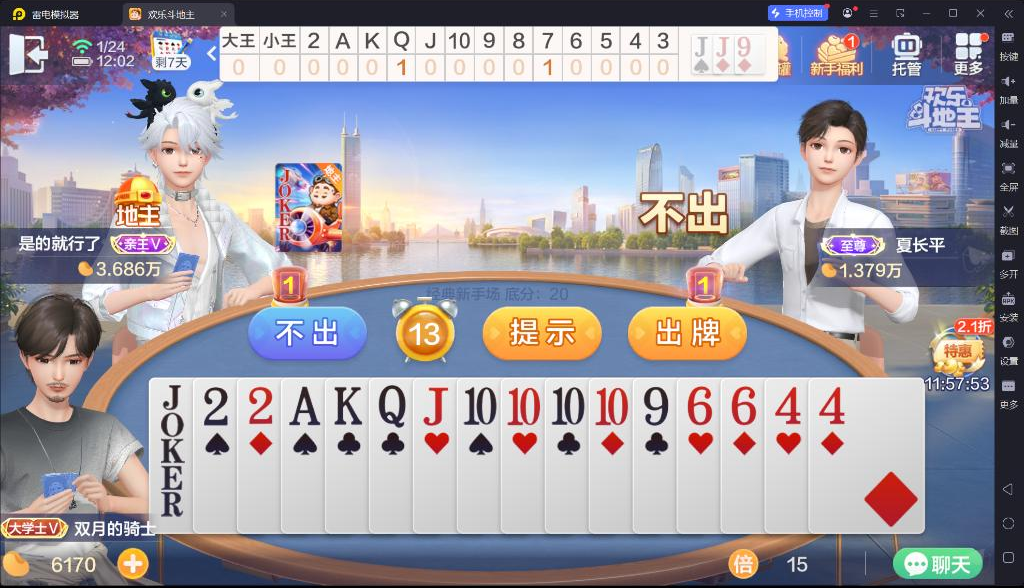A: (286, 384, 322, 427)
J: (419, 383, 451, 427), (715, 35, 731, 58), (694, 35, 709, 58)
JOKER: (276, 165, 292, 219)
K: (330, 383, 364, 426)
Q: (374, 383, 408, 429)
four: (771, 384, 803, 427), (817, 384, 847, 427)
joker: (158, 381, 188, 469)
nine: (639, 384, 670, 427), (736, 35, 752, 58)
six: (728, 384, 758, 428), (684, 384, 714, 426)
ten: (549, 384, 587, 428), (460, 384, 498, 427), (504, 384, 541, 427), (594, 384, 629, 427)
two: (200, 382, 232, 428), (244, 383, 276, 425)
